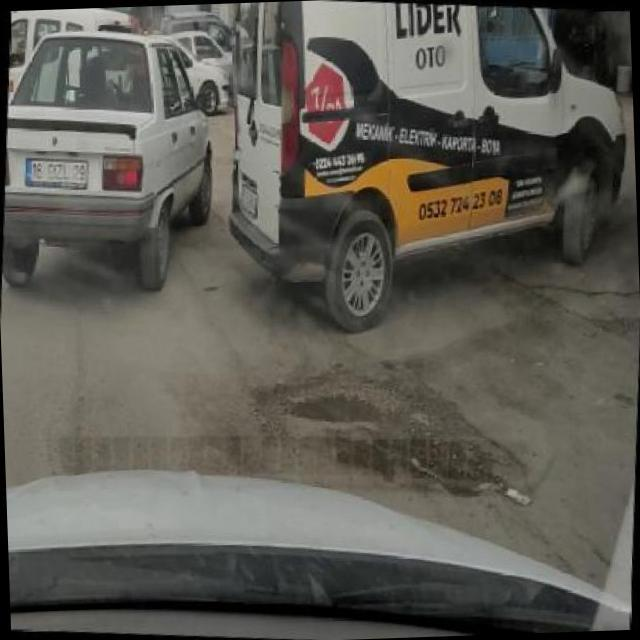Pothole: (264, 382, 410, 434)
